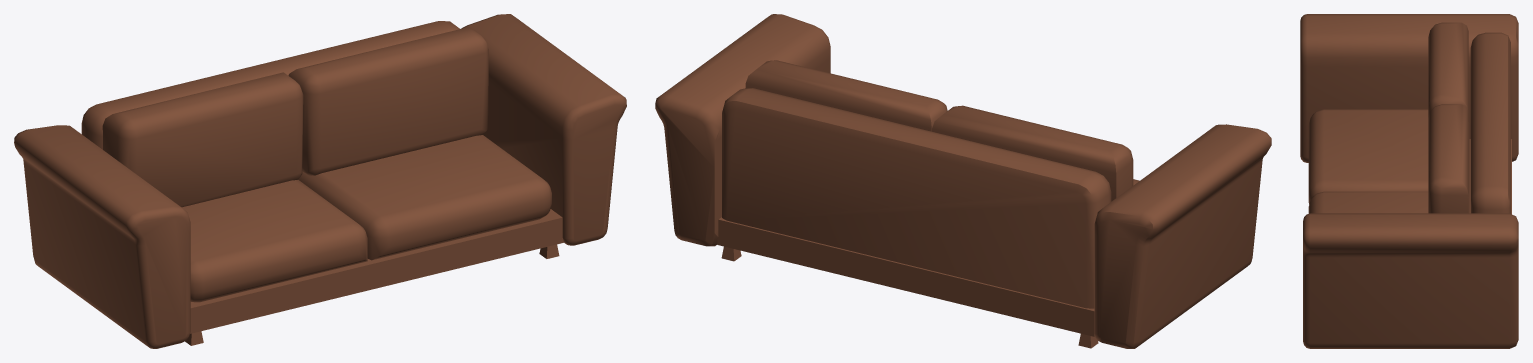
The model's file is SeatLarge_01.fbx.
The picture shows the model from 3 angles, left to right: view 1: azimuth 30°, elevation 25°; view 2: azimuth 150°, elevation 25°; view 3: azimuth 270°, elevation 25°; orthographic projection. The views are drawn at different scales.
Parts seen in each view (by area): view 1: SeatLarge_01; view 2: SeatLarge_01; view 3: SeatLarge_01.
Part boxes in pixels (x1=…): SeatLarge_01: x1=14, y1=14, x2=626, y2=348; SeatLarge_01: x1=655, y1=14, x2=1271, y2=348; SeatLarge_01: x1=1300, y1=14, x2=1518, y2=348.
Size of the model in its own units: 218 by 71.22 by 90.32.
